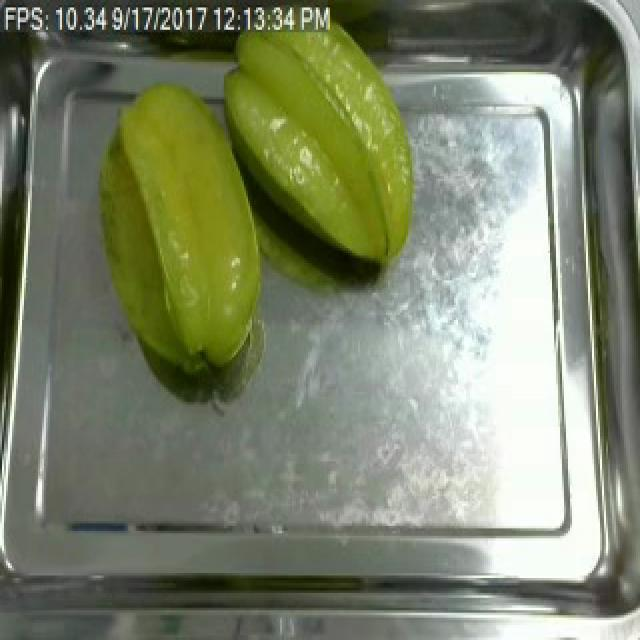fruit: (84, 72, 282, 389), (202, 10, 426, 278)
